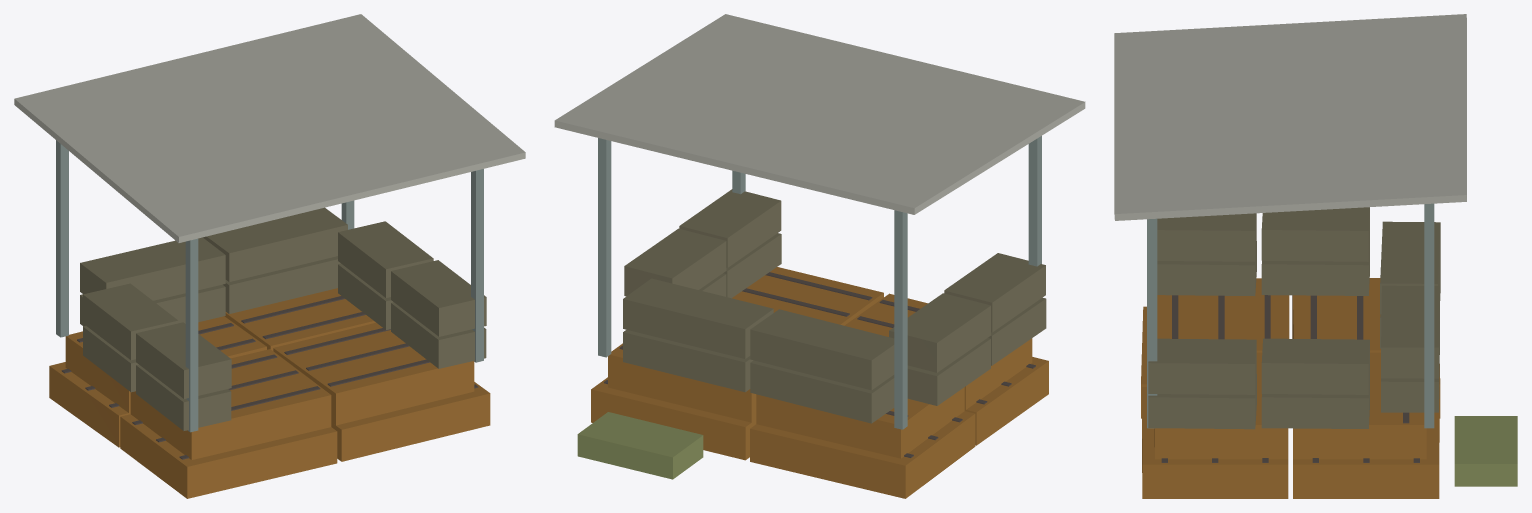
File: SM_Nido_v2_LOD0.fbx
3 renders of one model, left to right at view 1: azimuth 30°, elevation 25°; view 2: azimuth 150°, elevation 25°; view 3: azimuth 270°, elevation 25°, orthographic. The views are drawn at different scales.
Visible parts, largest first — view 1: SM_banqueta_tiro_v7_LOD0; view 2: SM_banqueta_tiro_v7_LOD0; view 3: SM_banqueta_tiro_v7_LOD0.
Boxes of the visible parts, x1=… form: SM_banqueta_tiro_v7_LOD0: x1=14, y1=14, x2=525, y2=498; SM_banqueta_tiro_v7_LOD0: x1=554, y1=14, x2=1085, y2=498; SM_banqueta_tiro_v7_LOD0: x1=1114, y1=14, x2=1517, y2=498.
Bounding box in the file's own units: 3.4 × 2.76 × 3.2.
